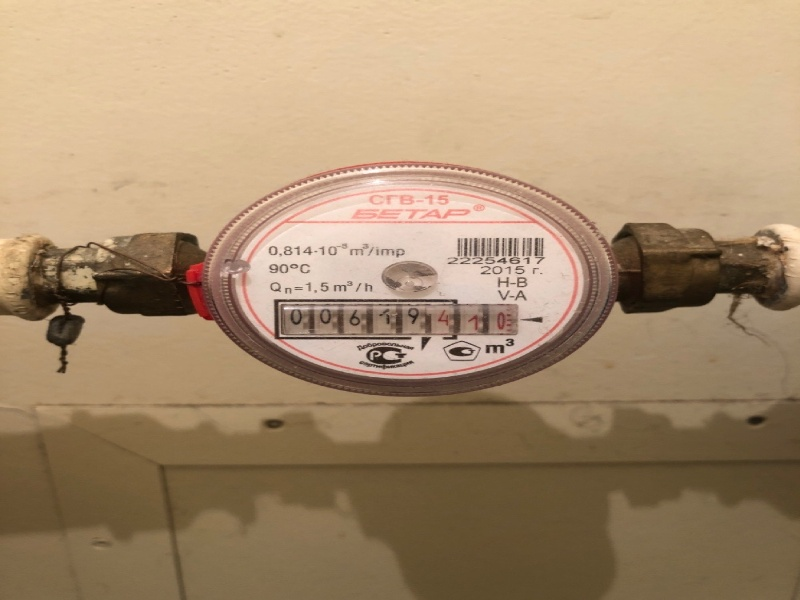meter: (265, 296, 521, 341)
